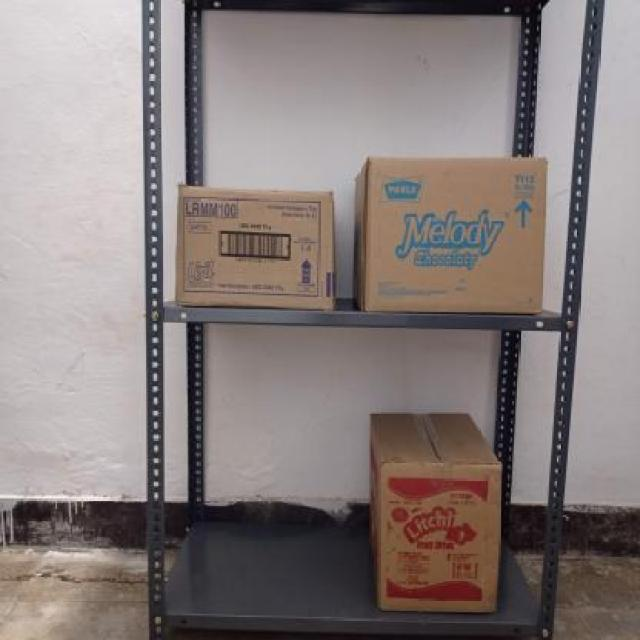box: (365, 156, 547, 315), (174, 184, 338, 310), (378, 460, 504, 611)
